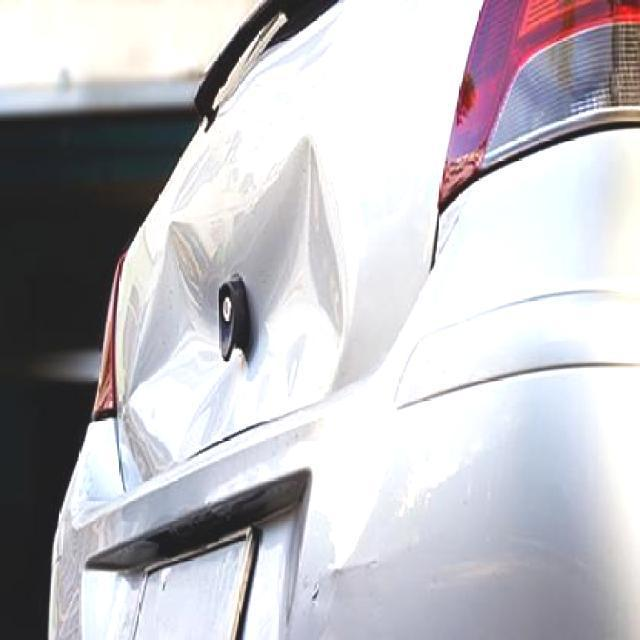minor: (306, 574, 326, 640)
moderate: (114, 5, 355, 480)
